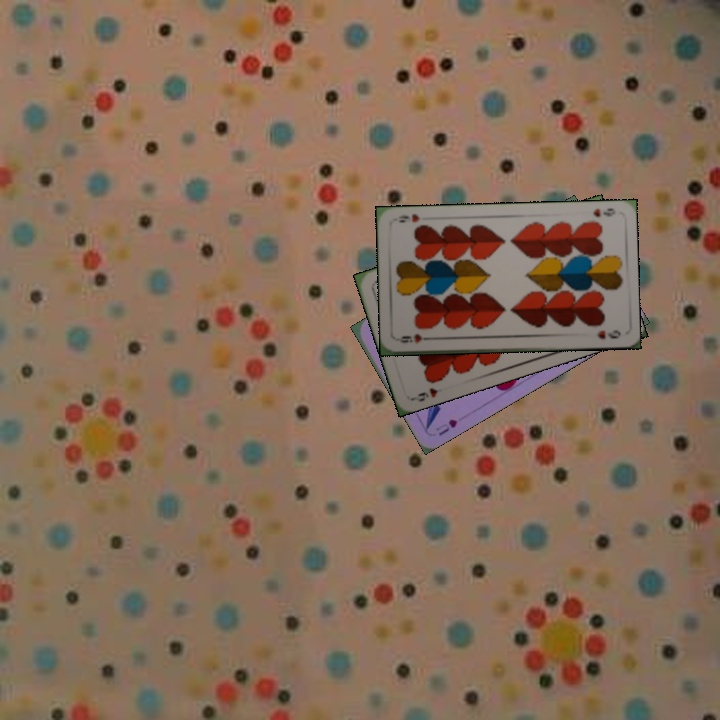H9: (409, 383, 440, 404), (395, 330, 435, 346), (589, 204, 618, 220)
HU: (432, 415, 460, 439)
